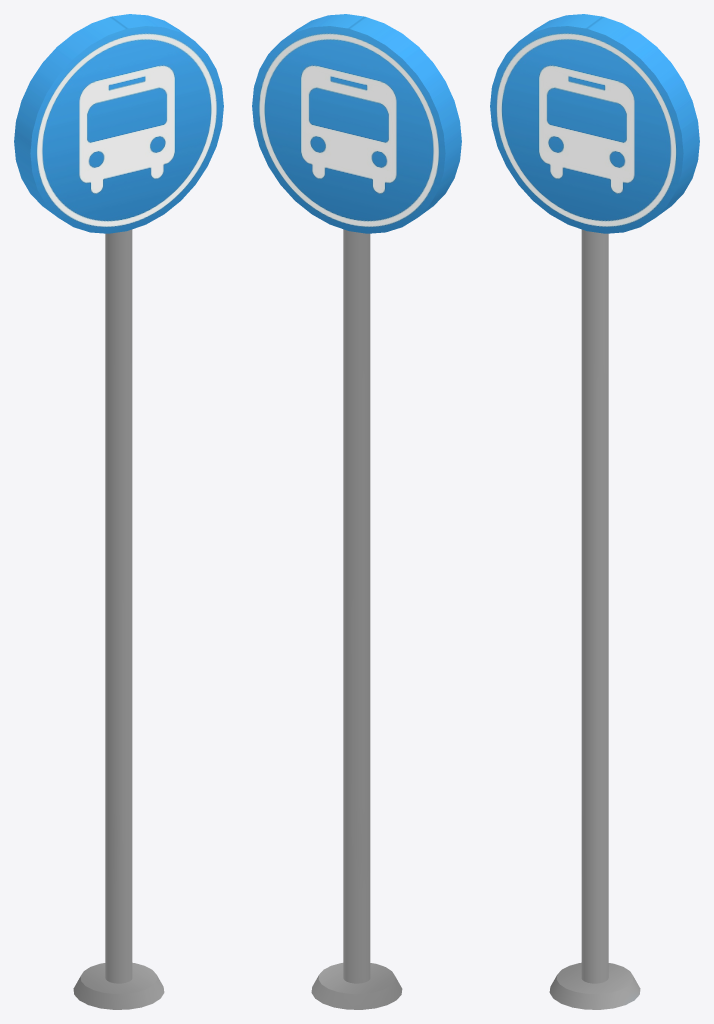
Rendered from BusStopSign.glb.
The picture shows the model from 3 angles, left to right: view 1: azimuth 30°, elevation 25°; view 2: azimuth 150°, elevation 25°; view 3: azimuth 330°, elevation 25°; orthographic projection.
Visible parts, largest first — view 1: BusSign; view 2: BusSign; view 3: BusSign.
Part boxes in pixels (<box>): BusSign: <box>14,14,223,1009</box>; BusSign: <box>252,14,461,1009</box>; BusSign: <box>490,14,699,1009</box>.
Size of the model in its own units: 0.8041 by 3.84 by 0.3288.
1 material, 1 textured.
